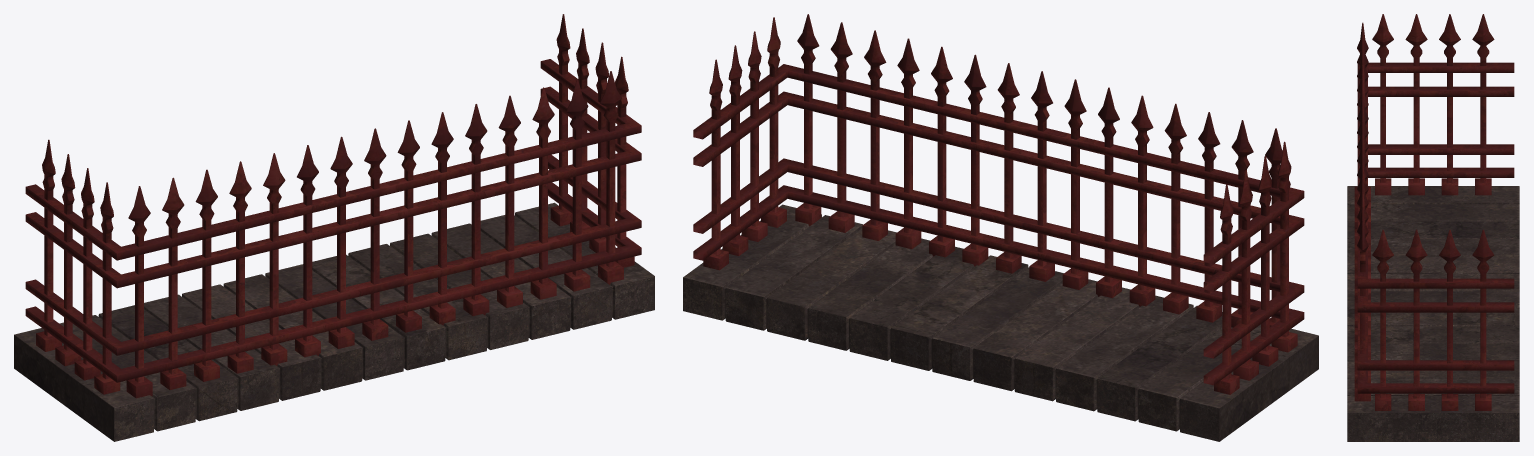
Rendered from SK2 DECOR.fbx.
3 views of the same model, side by side, from view 1: azimuth 30°, elevation 25°; view 2: azimuth 150°, elevation 25°; view 3: azimuth 270°, elevation 25° (orthographic). The views are drawn at different scales.
Parts seen in each view (by area): view 1: SK2 DECOR.002; view 2: SK2 DECOR.002; view 3: SK2 DECOR.002.
Boxes of the visible parts, x1,y1,x2,y2 form: SK2 DECOR.002: (14,14,654,441); SK2 DECOR.002: (683,14,1318,441); SK2 DECOR.002: (1347,14,1519,441).
Bounding box in the file's own units: 347 × 148 × 111.
